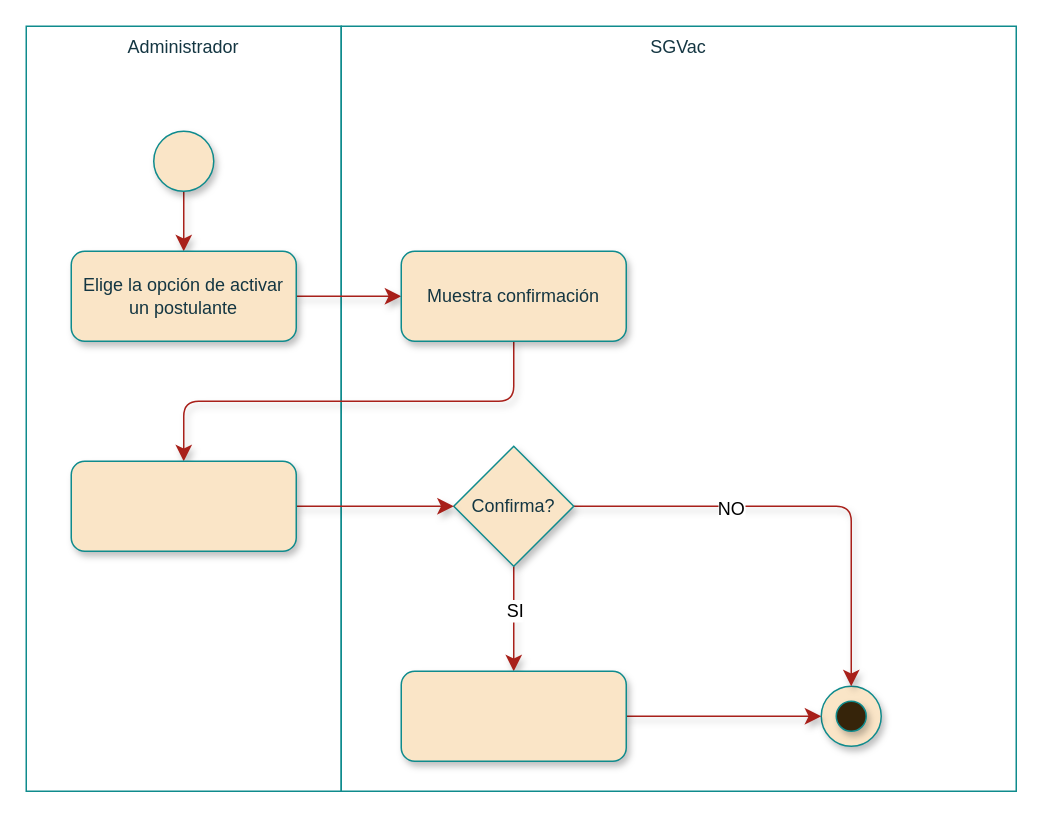
This 1043x818 diagram has some shape labels left out. Here are the shapes that lost their labels. From the top down, the centre of each, then its label:
(x=184, y=508): Acepta o cancela
(x=514, y=718): Activa el postulante
